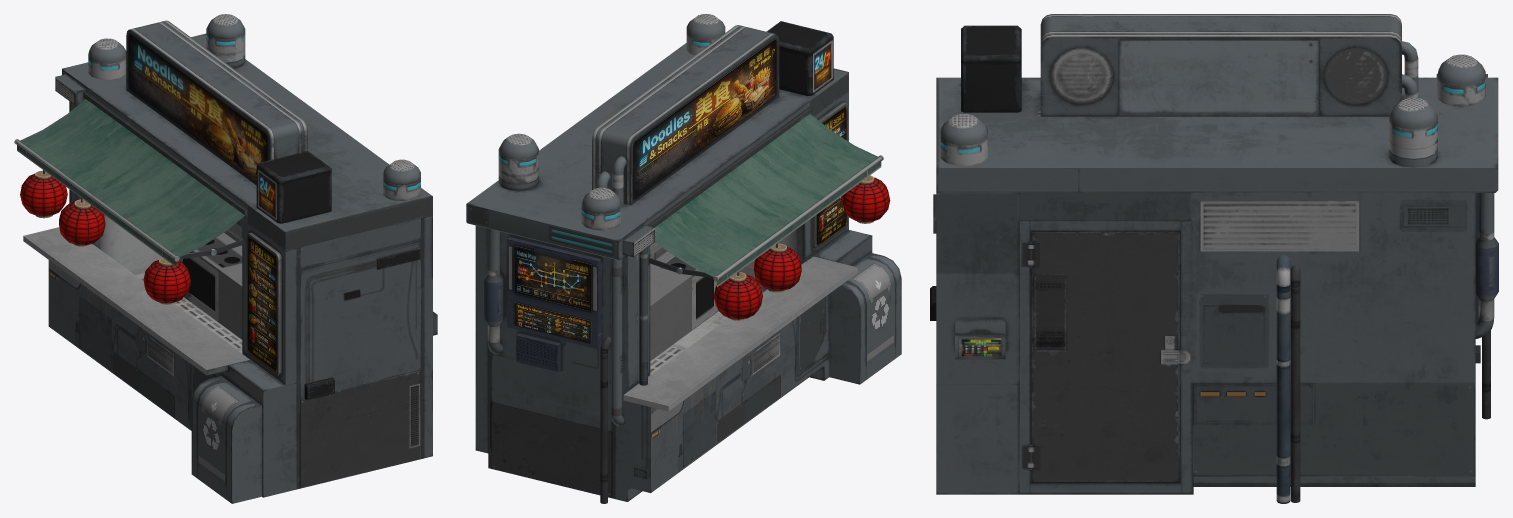
File: CP_Food_Stall.fbx
3 views of the same model, side by side, from view 1: azimuth 30°, elevation 25°; view 2: azimuth 150°, elevation 25°; view 3: azimuth 270°, elevation 25° (orthographic). The views are drawn at different scales.
Visible parts, largest first — view 1: CP_Food_Stall_LOD0; view 2: CP_Food_Stall_LOD0; view 3: CP_Food_Stall_LOD0.
Boxes of the visible parts, x1=… form: CP_Food_Stall_LOD0: x1=14, y1=14, x2=437, y2=503; CP_Food_Stall_LOD0: x1=466, y1=14, x2=901, y2=503; CP_Food_Stall_LOD0: x1=930, y1=14, x2=1498, y2=503.
Size of what is drawn, in the model's own units: 254 by 317 by 401.
